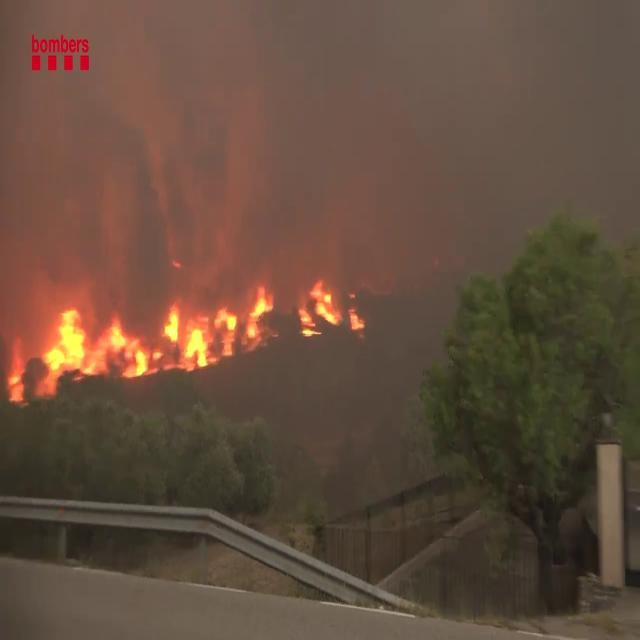Fire: (38, 286, 276, 380), (297, 277, 367, 338)
Smoke: (5, 2, 634, 360)
